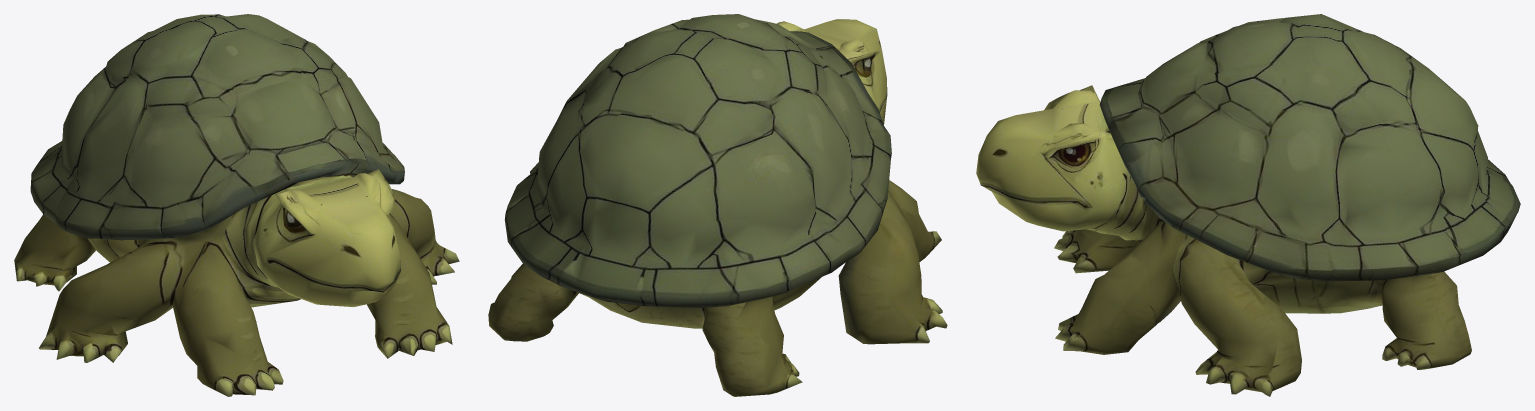
Rendered from turtle.glb.
3 renders of one model, left to right at view 1: azimuth 30°, elevation 25°; view 2: azimuth 150°, elevation 25°; view 3: azimuth 270°, elevation 25°, orthographic. The views are drawn at different scales.
Bounding box in the file's own units: 1.67 × 1.07 × 1.91.
Materials: 1 (1 with a texture image).
